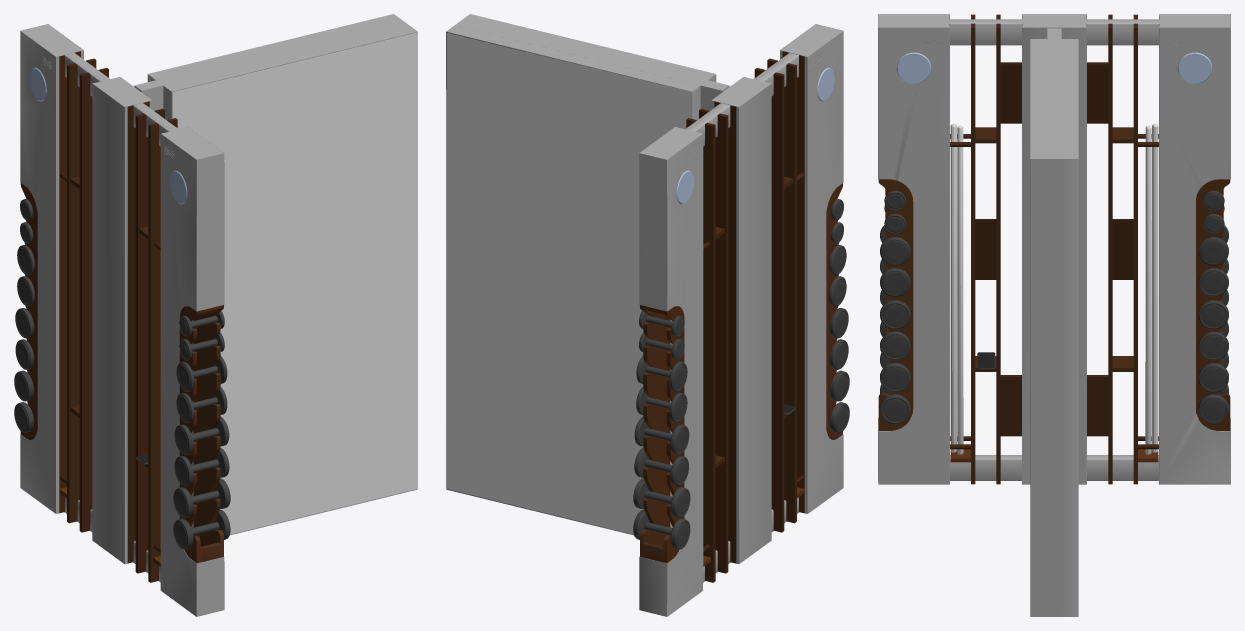
Rendered from mirror_t.glb.
3 views of the same model, side by side, from view 1: azimuth 30°, elevation 25°; view 2: azimuth 150°, elevation 25°; view 3: azimuth 270°, elevation 25° (orthographic).
Visible parts, largest first — view 1: mirror_t; view 2: mirror_t; view 3: mirror_t.
Part boxes in pixels (left/top/right/bottom): mirror_t: left=14, top=14, right=417, bottom=616; mirror_t: left=446, top=14, right=849, bottom=616; mirror_t: left=878, top=14, right=1230, bottom=616.
Size of the model in its own units: 1.46 by 2.09 by 1.46.
